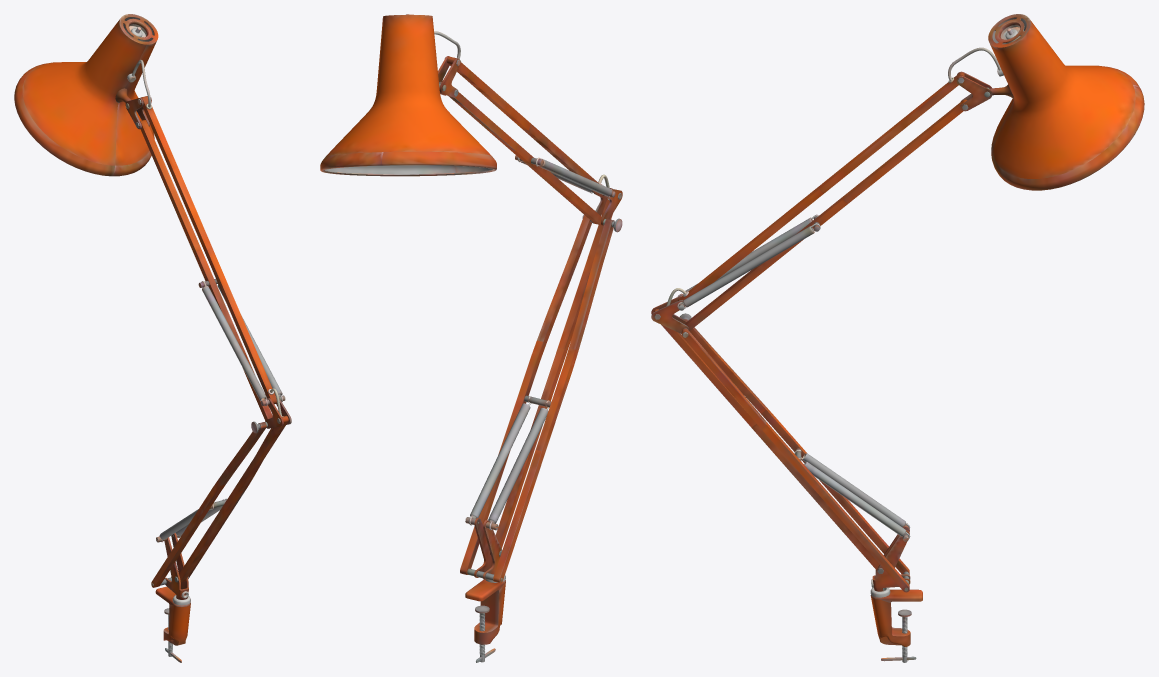
Rendered from desk_lamp_arm_01.glb.
The picture shows the model from 3 angles, left to right: view 1: azimuth 30°, elevation 25°; view 2: azimuth 150°, elevation 25°; view 3: azimuth 270°, elevation 25°; orthographic projection. The views are drawn at different scales.
Visible parts, largest first — view 1: desk_lamp_arm_01; view 2: desk_lamp_arm_01; view 3: desk_lamp_arm_01.
Boxes of the visible parts, box(x1,y1,x2,y2) form: desk_lamp_arm_01: box(14, 14, 291, 662); desk_lamp_arm_01: box(320, 14, 622, 662); desk_lamp_arm_01: box(651, 14, 1144, 662).
Bounding box in the file's own units: 0.2017 × 0.8926 × 0.6139.
2 materials, 2 textured.
